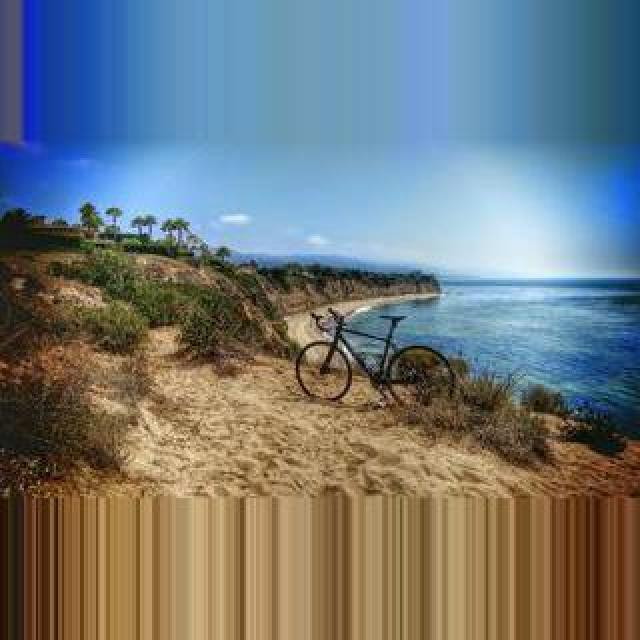Person: (294, 305, 458, 407)
